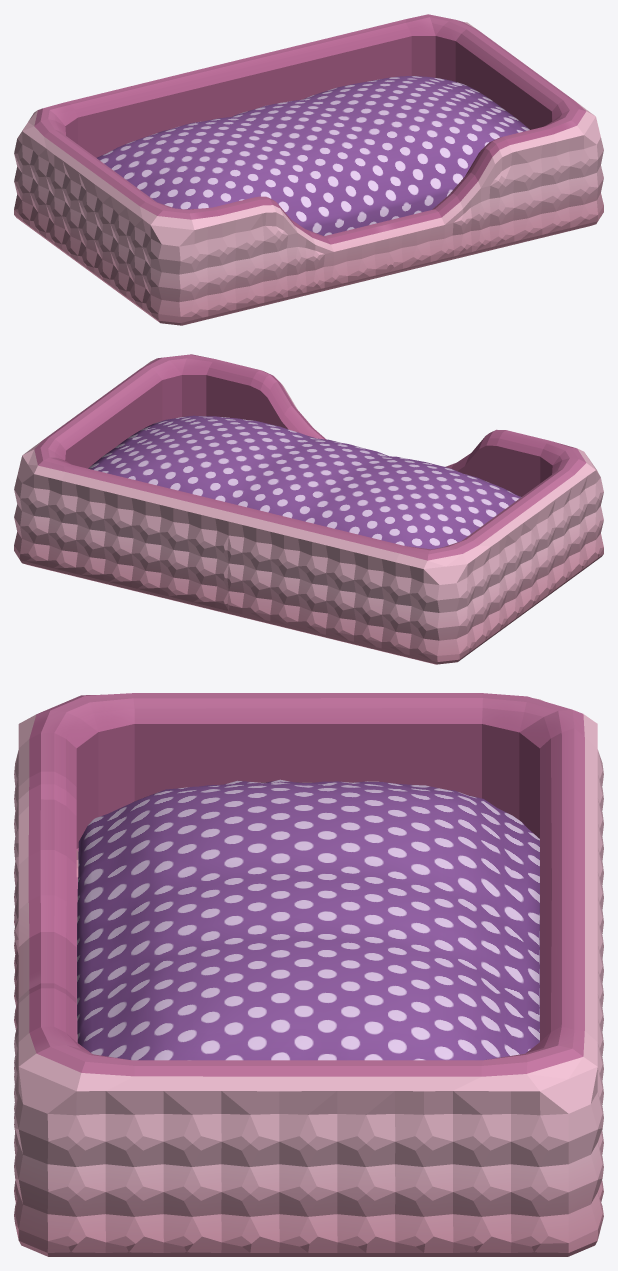
The model's file is Bed.fbx.
The picture shows the model from 3 angles, top to bottom: view 1: azimuth 30°, elevation 25°; view 2: azimuth 150°, elevation 25°; view 3: azimuth 270°, elevation 25°; orthographic projection. The views are drawn at different scales.
Parts seen in each view (by area): view 1: Bed; view 2: Bed; view 3: Bed.
Part boxes in pixels (x1,y1,x2,y2): Bed: [14, 14, 603, 325]; Bed: [14, 354, 603, 664]; Bed: [14, 693, 603, 1256].
Size of the model in its own units: 253 by 56.69 by 159.
